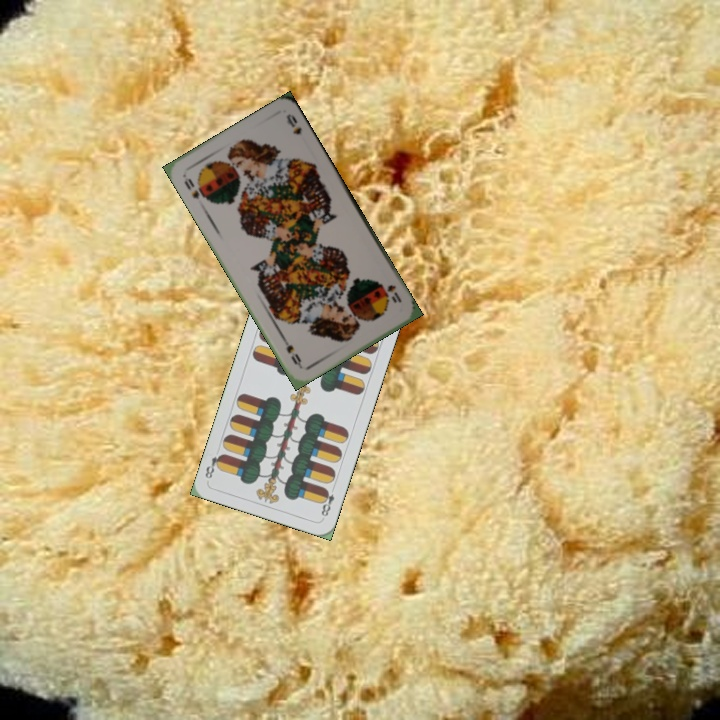E8: (317, 482, 338, 521)
SO: (377, 279, 404, 305), (180, 174, 202, 202)
